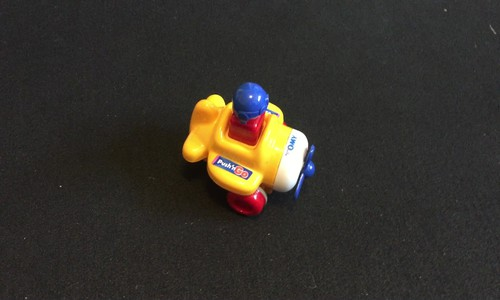toy: (182, 79, 319, 219)
